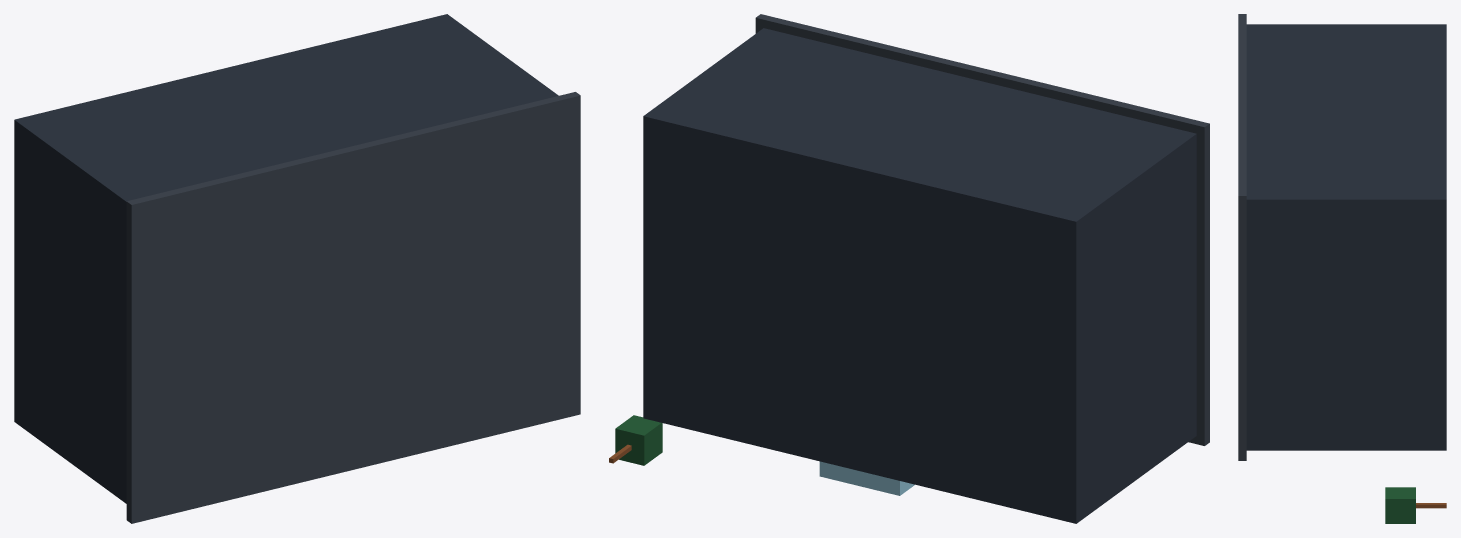
File: kennispark.obj
The picture shows the model from 3 angles, left to right: view 1: azimuth 30°, elevation 25°; view 2: azimuth 150°, elevation 25°; view 3: azimuth 270°, elevation 25°; orthographic projection. The views are drawn at different scales.
Parts seen in each view (by area): view 1: kennispark; view 2: kennispark; view 3: kennispark.
Part boxes in pixels (x1,y1,x2,y2): kennispark: (14,14,580,523); kennispark: (609,14,1209,523); kennispark: (1238,14,1446,523).
Size of the model in its own units: 30.4 by 22.4 by 13.55.
